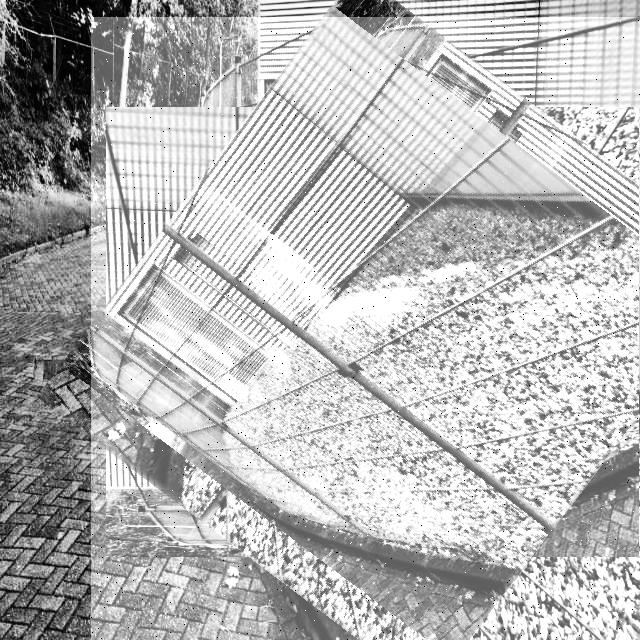fences: (91, 17, 640, 640)
